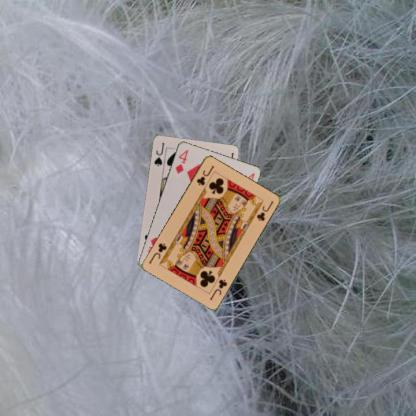4d: (172, 147, 190, 174)
Jc: (207, 276, 228, 302), (194, 163, 216, 187)
Js: (151, 140, 166, 167)
